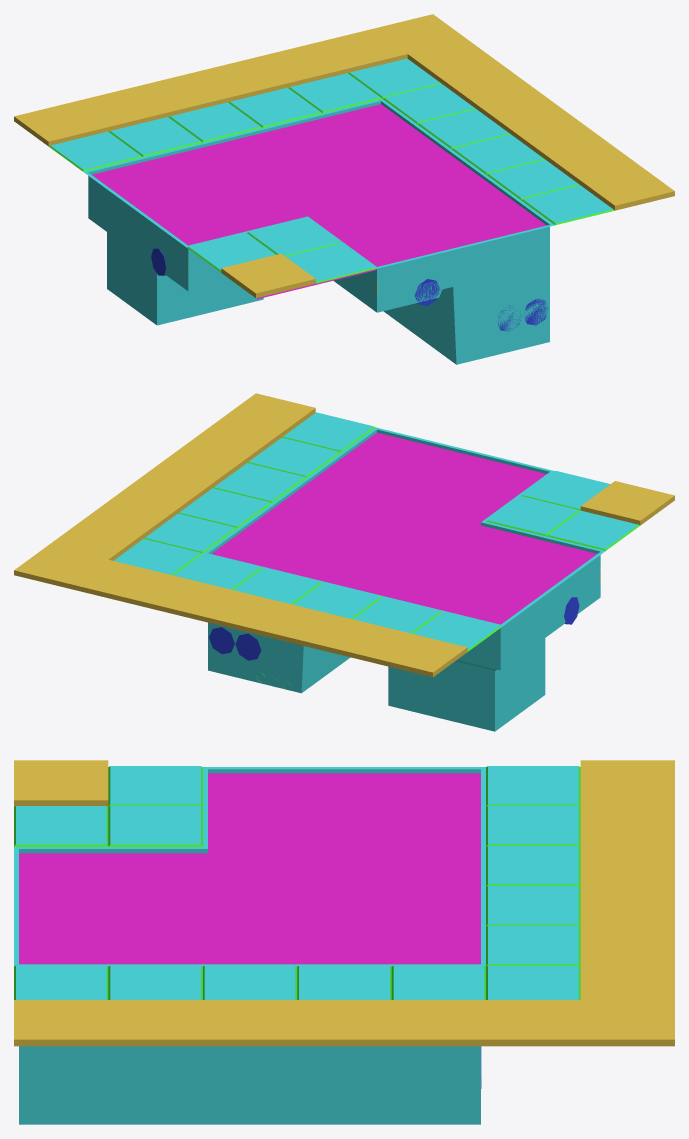
Rendered from Floor_09_C.fbx.
The picture shows the model from 3 angles, top to bottom: view 1: azimuth 30°, elevation 25°; view 2: azimuth 150°, elevation 25°; view 3: azimuth 270°, elevation 25°; orthographic projection. The views are drawn at different scales.
Visible parts, largest first — view 1: Floor_09_C; view 2: Floor_09_C; view 3: Floor_09_C.
Part boxes in pixels (bbox=[...]): Floor_09_C: bbox=[14, 14, 674, 364]; Floor_09_C: bbox=[14, 393, 674, 731]; Floor_09_C: bbox=[14, 760, 674, 1124].
Size of what is drawn, in the model's own units: 457 by 128 by 457.
